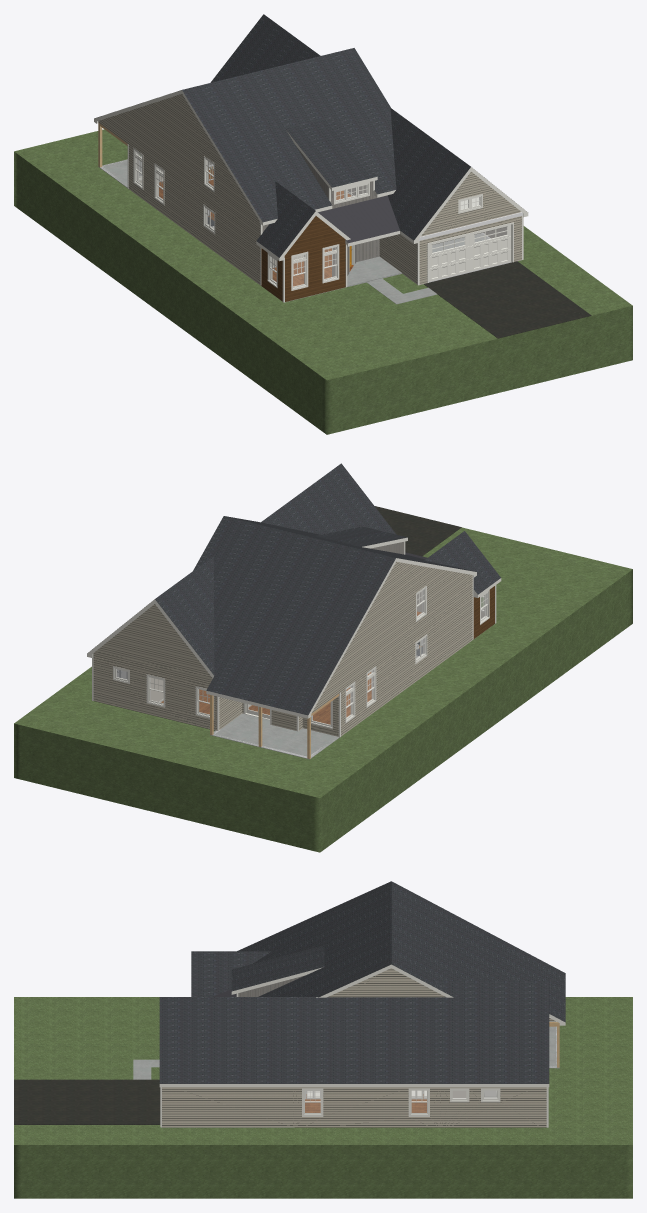
File: house.dae
The picture shows the model from 3 angles, top to bottom: view 1: azimuth 30°, elevation 25°; view 2: azimuth 150°, elevation 25°; view 3: azimuth 270°, elevation 25°; orthographic projection.
Visible parts, largest first — view 1: geo_132, geo_131, geo_148, geo_11, geo_403, geo_385, geo_168, geo_61, geo_127, geo_399, geo_147; view 2: geo_132, geo_131, geo_148, geo_11, geo_61, geo_403, geo_127, geo_147, geo_105, geo_385; view 3: geo_132, geo_131, geo_148, geo_403, geo_11, geo_127, geo_61.
Part boxes in pixels (x1,y1,x2,y2): geo_132: (14,129,632,434); geo_131: (182,14,514,257); geo_148: (98,94,521,285); geo_11: (94,90,528,302); geo_403: (424,261,591,338); geo_385: (261,216,345,301); geo_168: (318,195,399,243); geo_61: (100,156,437,304); geo_127: (136,152,506,286); geo_399: (262,146,387,275); geo_147: (159,169,353,286); geo_132: (14,527,632,852); geo_131: (92,463,500,715); geo_148: (93,561,472,736); geo_11: (87,537,501,737); geo_61: (210,713,338,757); geo_403: (375,506,461,556); geo_127: (116,590,486,724); geo_147: (161,611,421,724); geo_105: (210,694,339,758); geo_385: (473,586,494,639); geo_132: (14,997,632,1198); geo_131: (159,881,565,1083); geo_148: (162,968,556,1127); geo_403: (14,1079,160,1124); geo_11: (159,964,565,1127); geo_127: (305,1091,496,1112); geo_61: (133,1021,556,1079).
Bounding box in the file's own units: 705 × 1249 × 428.
50 materials, 28 textured.
